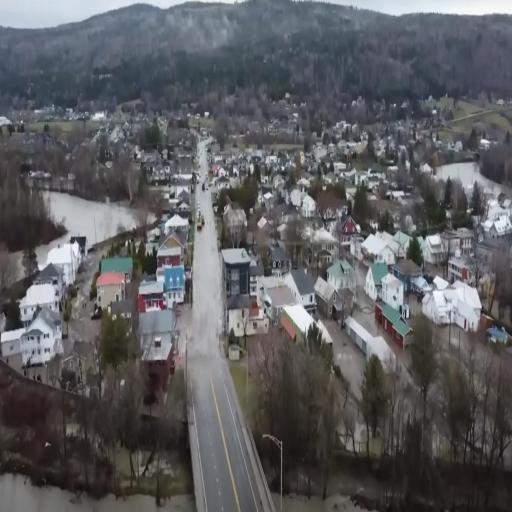flood: (35, 191, 139, 267), (0, 473, 195, 512), (436, 161, 512, 199), (284, 494, 367, 512), (0, 244, 22, 286)
house: (421, 276, 482, 335), (18, 306, 63, 368), (143, 328, 174, 392), (220, 248, 252, 307), (313, 273, 342, 323), (96, 270, 128, 311), (266, 282, 294, 326), (156, 230, 186, 266), (158, 265, 186, 303), (48, 248, 76, 286), (101, 253, 134, 285), (138, 276, 165, 314), (381, 271, 404, 315), (367, 260, 388, 308), (289, 267, 314, 304), (423, 232, 444, 269), (318, 228, 340, 256), (491, 215, 512, 239), (343, 216, 356, 245), (303, 194, 315, 219), (178, 189, 189, 212), (366, 175, 380, 192), (291, 186, 302, 207), (154, 164, 166, 181), (217, 175, 230, 189)
